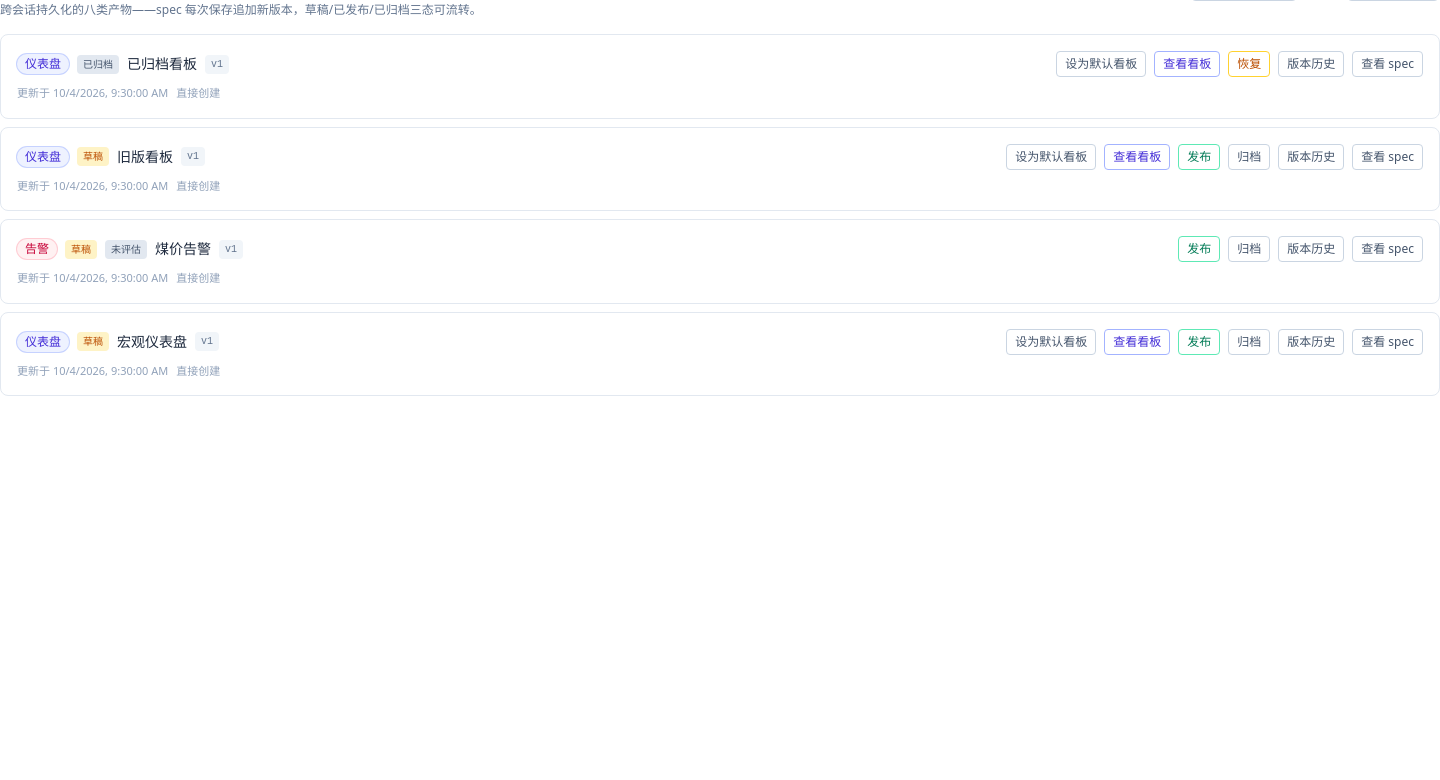
Scenario: 看板定时刷新小节（wire-refresh-scheduler 4.1/4.2） › 创建流：预设 6h/24h/7d，选 24h 创建 → POST body（artifact）断言 → 状态行
This screenshot has width=1440, height=780.
Click the button with test id "artifact-dashboard-view" in the row of "宏观仪表盘".
click(1137, 342)  # box [1104,328,1170,354]
(page scrolled)
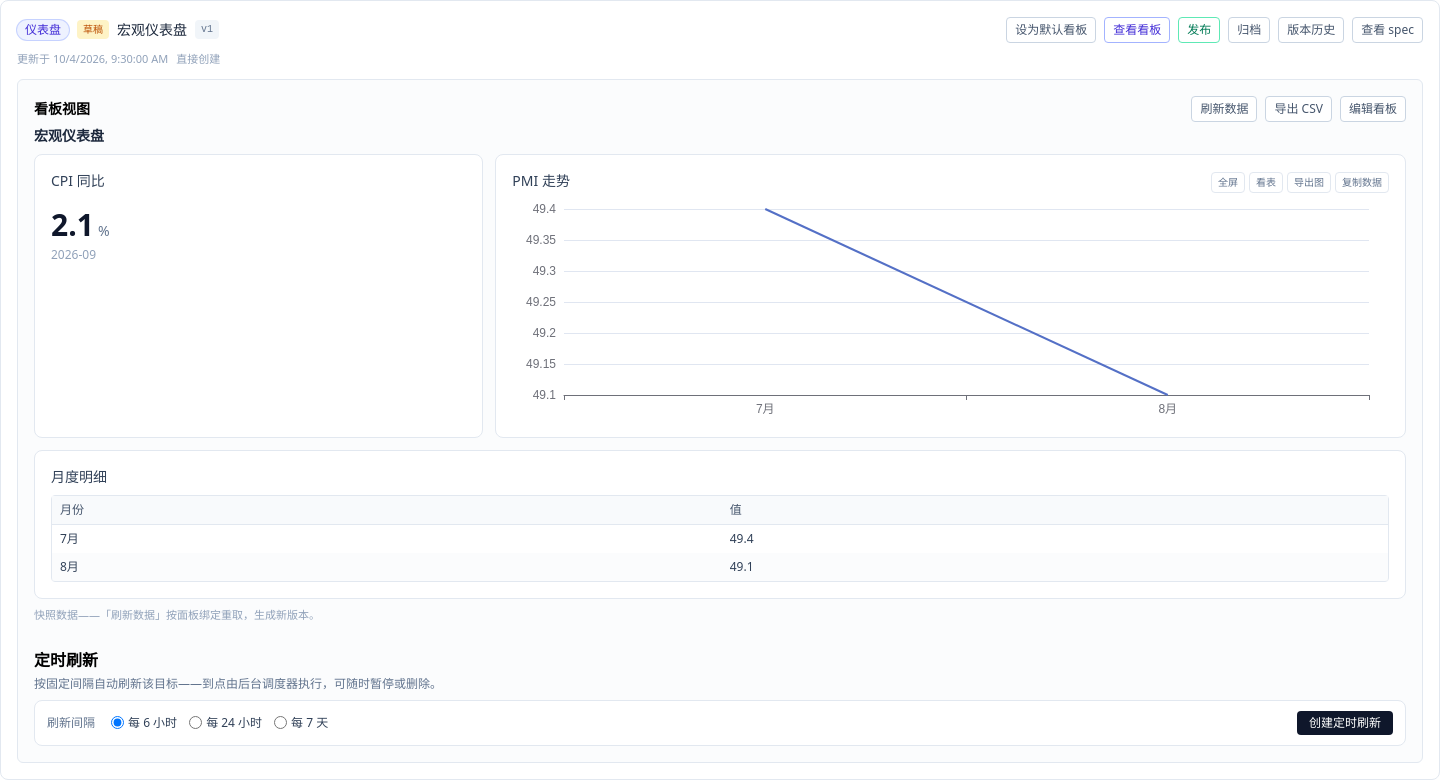
Expected: the element with test id "dashboard-pane" is shown
Click the radio button with test id "schedule-interval" showing "每 24 小时".
click(196, 722)  # box [189,716,202,729]
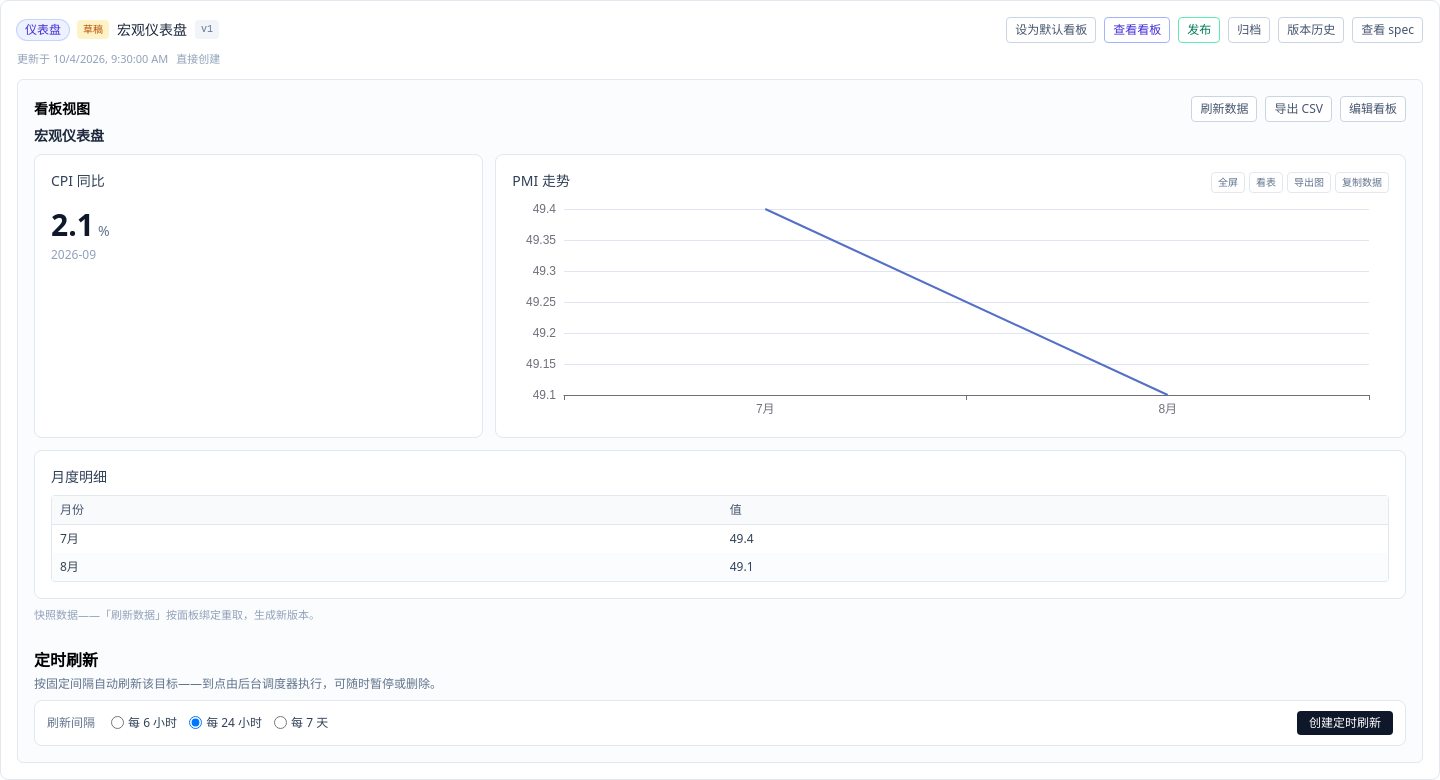
Click the button with test id "schedule-create-submit".
click(1345, 722)  # box [1297,710,1393,734]
(page scrolled)
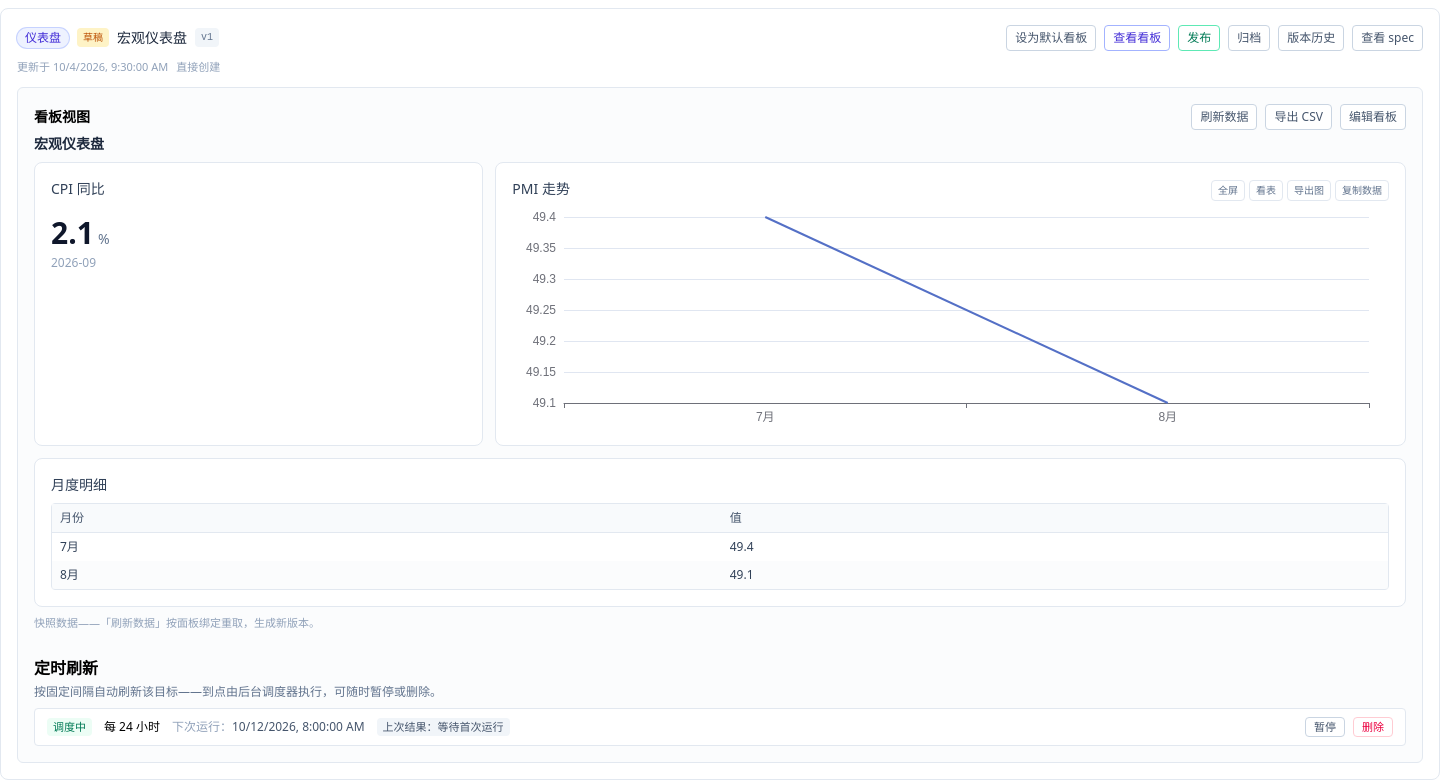
Expected: the element with test id "schedule-row" is shown, [34,708,1406,746]
